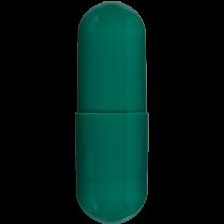0615-7751: (0, 0, 224, 224)
